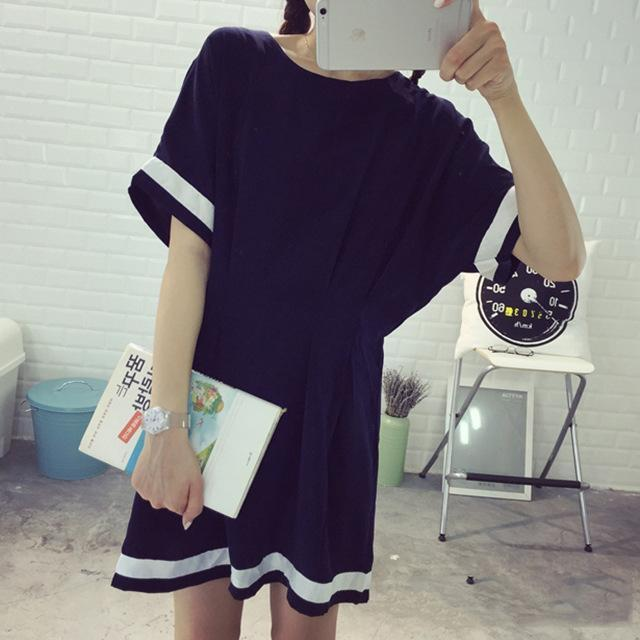short sleeve dress: (112, 28, 545, 605)
